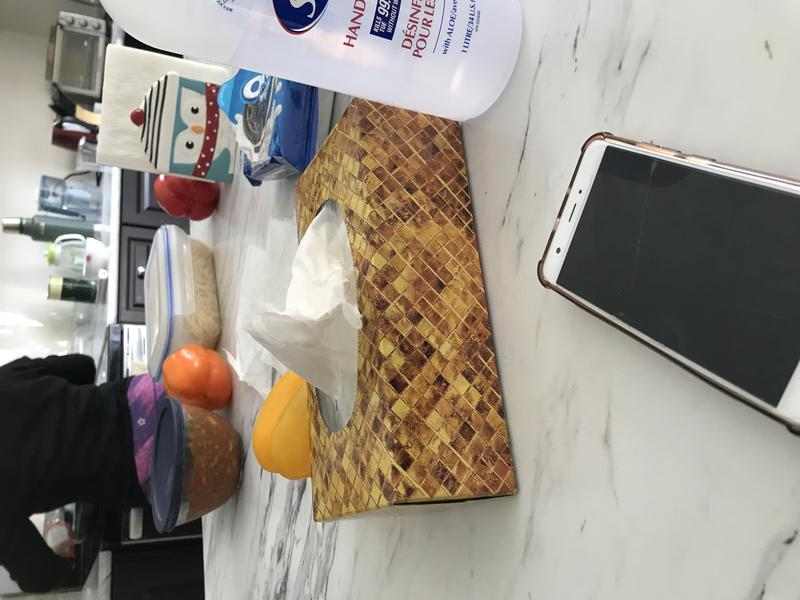orange_pepper: (149, 338, 237, 415)
red_pepper: (150, 159, 225, 227)
yellow_pepper: (245, 357, 335, 491)
